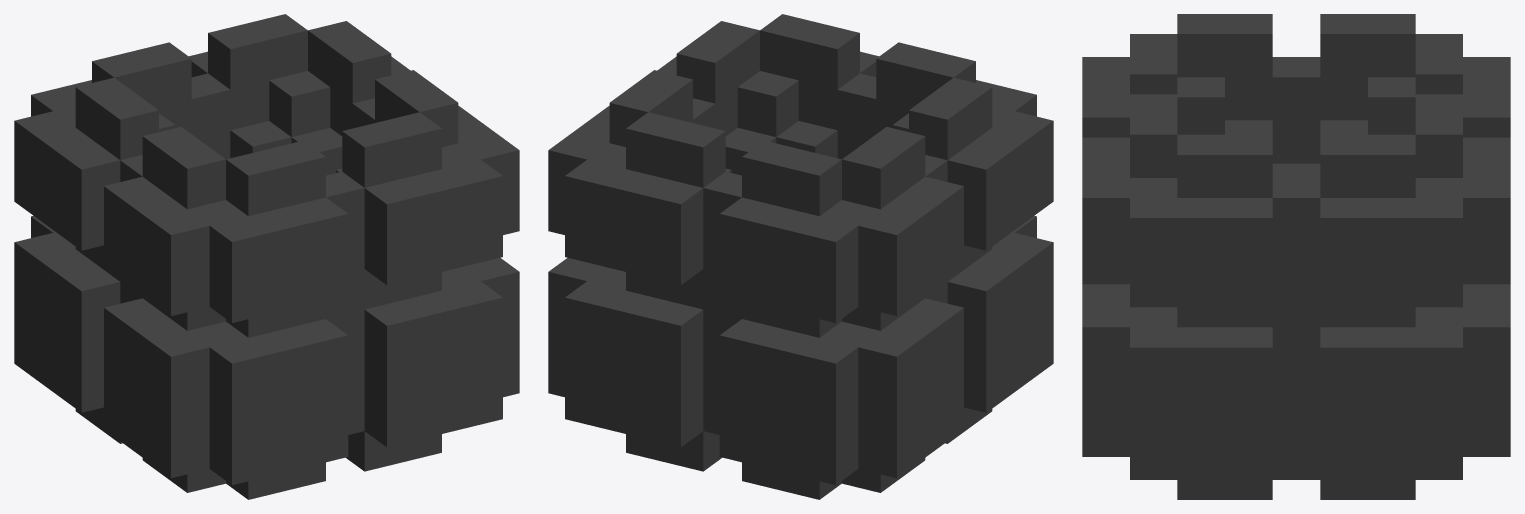
File: cristais-8.obj
3 renders of one model, left to right at view 1: azimuth 30°, elevation 25°; view 2: azimuth 150°, elevation 25°; view 3: azimuth 270°, elevation 25°, orthographic. The views are drawn at different scales.
Bounding box in the file's own units: 0.9 × 0.8 × 0.9.
Materials: 1 (1 with a texture image).
